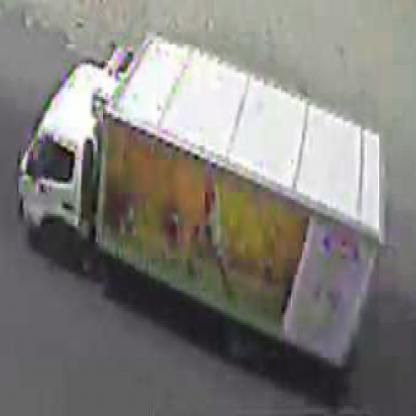truck: (19, 46, 382, 375)
